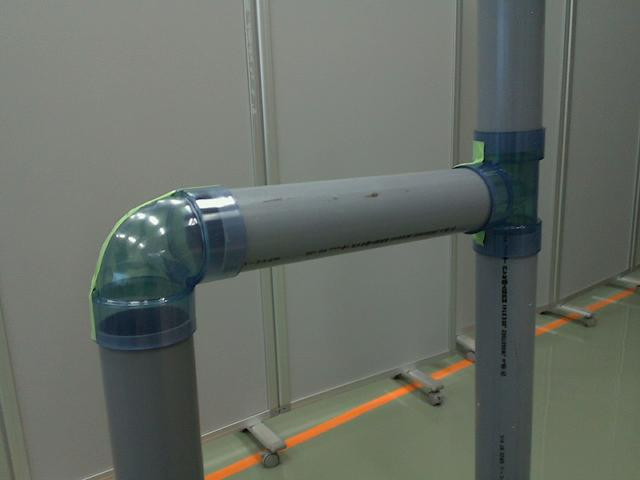bent: (90, 179, 248, 350)
junction: (444, 126, 545, 254)
